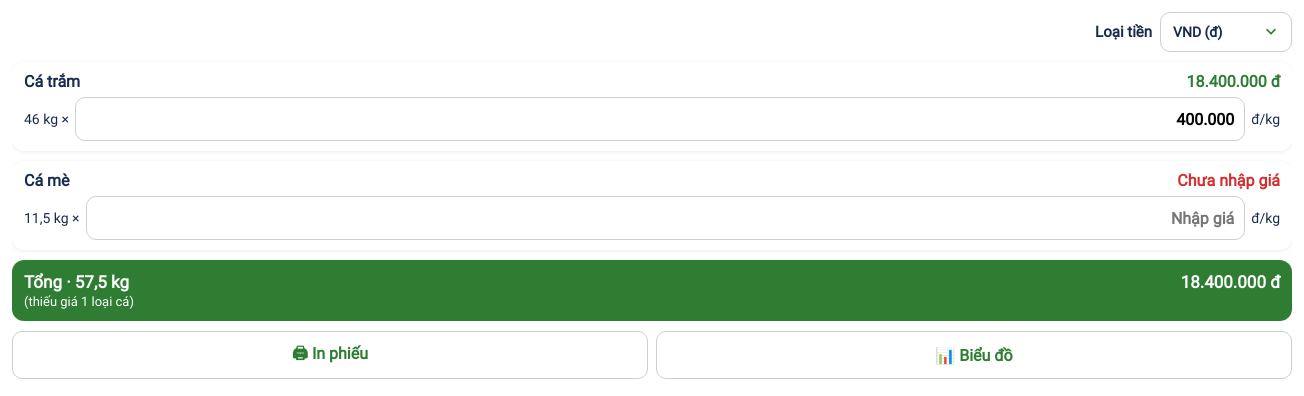
đang gõ đơn giá VND trên thẻ → tự thêm dấu . ngăn cách hàng nghìn
The image size is (1304, 396).
Type "35000" into the field with placeholder "Nhập giá". click: (665, 218)
box: [86, 196, 1245, 240]
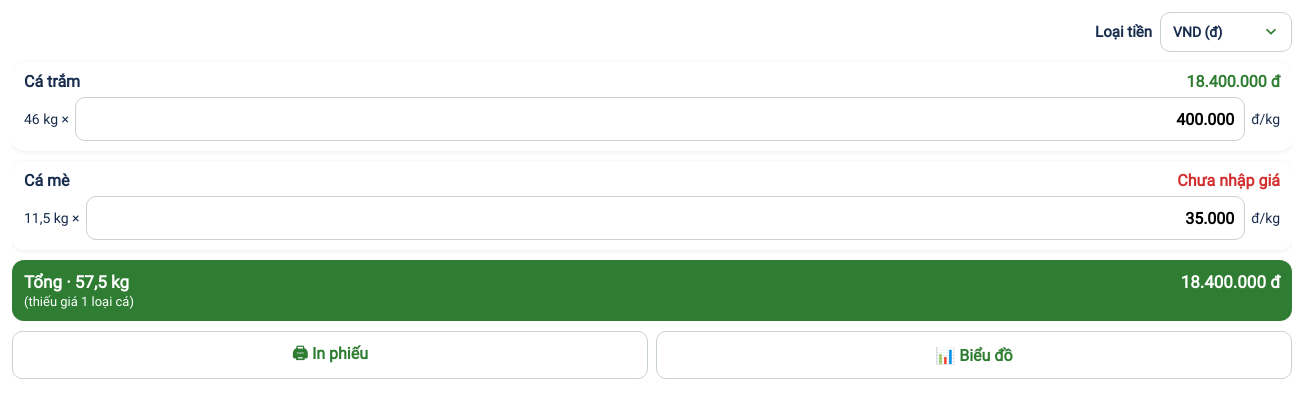
Expected: the field next to "11,5 kg ×" holds "35.000", [86, 196, 1245, 240]
